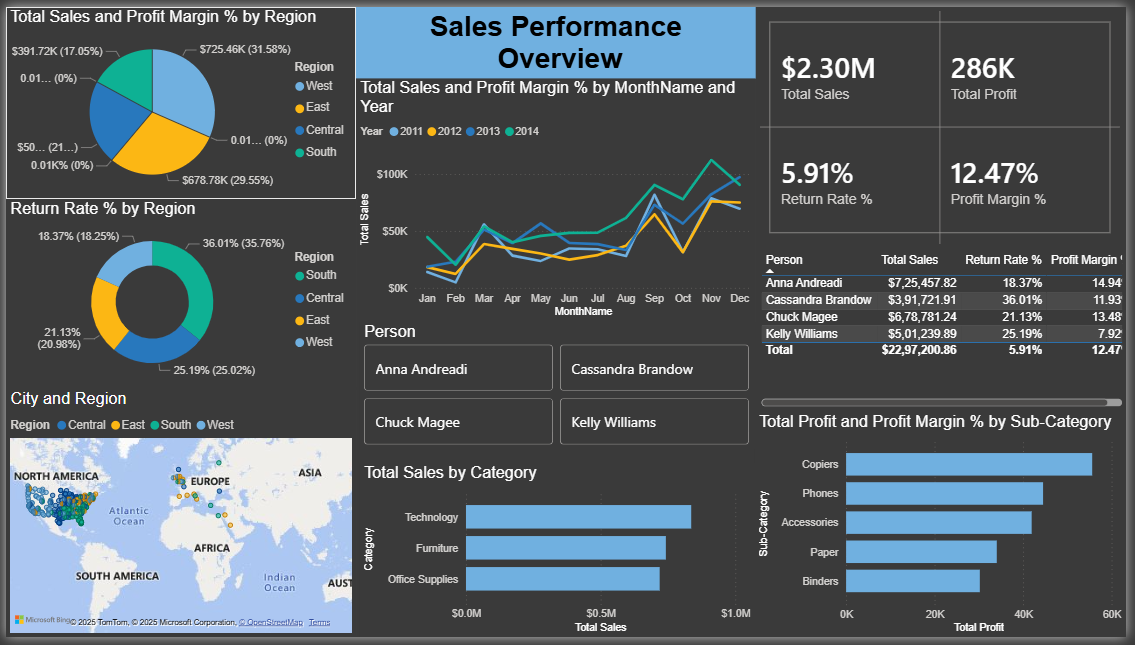

Layout of this report page (visuals, bound fields, positions):
{"tool":"powerbi","page":{"name":"Page 1","canvas":[1280,720],"ordinal":0},"visuals":[{"type":"cardVisual","fields":{"Data":["Orders.Total Sales","Orders.Total Profit","Orders.Return Rate %","Orders.Profit Margin %"]},"box":[856.3,0,424,275.8],"z":0},{"type":"lineChart","fields":{"Category":["Calendar.MonthName"],"Y":["Orders.Total Sales"],"Series":["Calendar.Year"]},"box":[400,81.7,456.7,278.3],"z":1000},{"type":"clusteredBarChart","fields":{"Category":["Orders.Sub-Category"],"Y":["Orders.Total Profit"]},"box":[856.3,462.4,424,258],"z":2000},{"type":"clusteredBarChart","fields":{"Category":["Orders.Category"],"Y":["Orders.Total Sales"]},"box":[404.8,521.4,451.5,199],"z":3000},{"type":"pieChart","fields":{"Category":["Orders.Region"],"Y":["Orders.Total Sales","Orders.Profit Margin %"]},"box":[0,0,400.7,219.6],"z":4000},{"type":"donutChart","fields":{"Category":["Orders.Region"],"Y":["Orders.Return Rate %"]},"box":[0,219.6,400.7,214.1],"z":5000},{"type":"tableEx","fields":{"Values":["People.Person","Orders.Total Sales","Orders.Return Rate %","Orders.Profit Margin %"]},"box":[856.6,276.3,423.5,185.8],"z":6000},{"type":"map","fields":{"Category":["Orders.City"],"Series":["Orders.Region"]},"box":[0,437.7,400.7,282.7],"z":7000},{"type":"advancedSlicerVisual","fields":{"Values":["People.Person"]},"box":[404.8,359.5,451.5,145.5],"z":8000},{"type":"textbox","box":[400,0,456.7,81.7],"z":9000}]}

Visuals, with their boxes in screenshot pixels (x1, y1, x2, y2), scaled from the page's 1280x720 canvas onto the 1135x645 screenshot:
cardVisual - Orders.Total Sales x Orders.Total Profit: rect(759, 0, 1134, 247)
lineChart - Calendar.MonthName x Orders.Total Sales: rect(355, 73, 760, 322)
clusteredBarChart - Orders.Sub-Category x Orders.Total Profit: rect(759, 414, 1134, 644)
clusteredBarChart - Orders.Category x Orders.Total Sales: rect(359, 467, 759, 644)
pieChart - Orders.Region x Orders.Total Sales: rect(0, 0, 355, 197)
donutChart - Orders.Region x Orders.Return Rate %: rect(0, 197, 355, 389)
tableEx - People.Person x Orders.Total Sales: rect(760, 248, 1134, 414)
map - Orders.City x Orders.Region: rect(0, 392, 355, 644)
advancedSlicerVisual - People.Person: rect(359, 322, 759, 452)
textbox: rect(355, 0, 760, 73)
